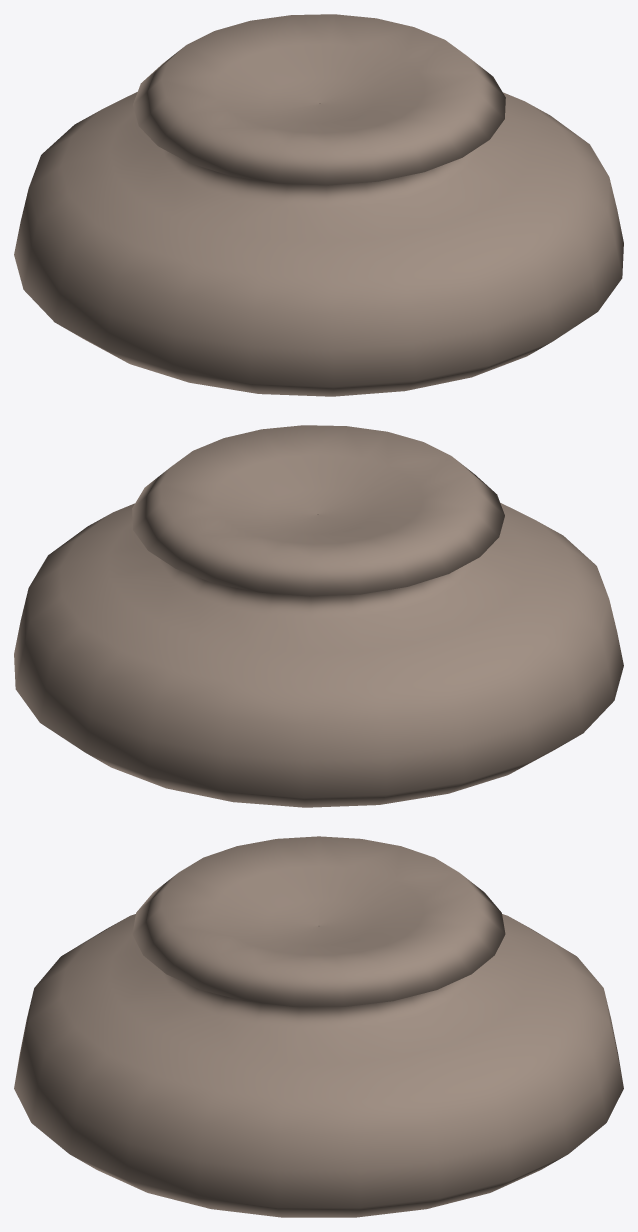
File: moneyBag.fbx
3 views of the same model, one above another, from view 1: azimuth 30°, elevation 25°; view 2: azimuth 150°, elevation 25°; view 3: azimuth 270°, elevation 25° (orthographic).
Visible parts, largest first — view 1: nurbsToPoly1; view 2: nurbsToPoly1; view 3: nurbsToPoly1.
Boxes of the visible parts, x1,y1,x2,y2 form: nurbsToPoly1: (14, 14, 623, 396); nurbsToPoly1: (14, 425, 623, 807); nurbsToPoly1: (14, 836, 623, 1217).
Bounding box in the file's own units: 18.26 × 6.93 × 18.3.
